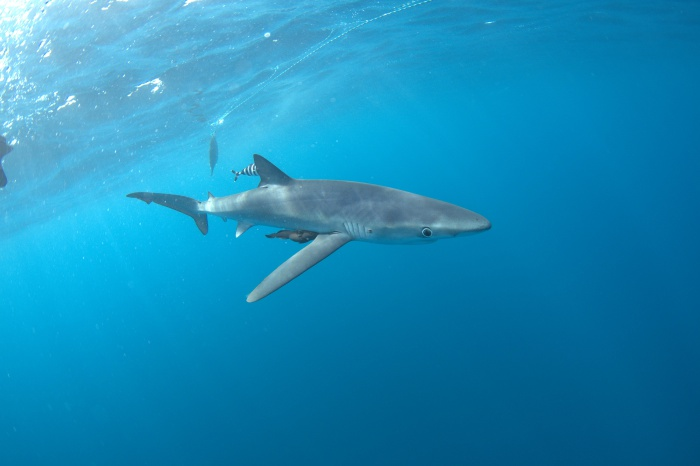Azul: (115, 140, 508, 317)
